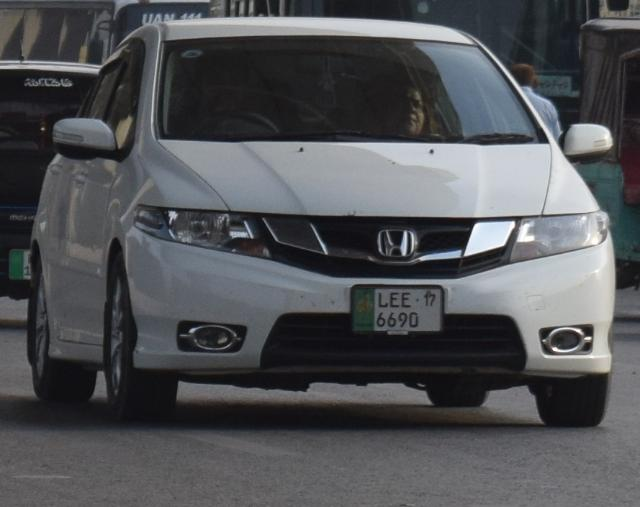plate: (348, 280, 447, 335)
